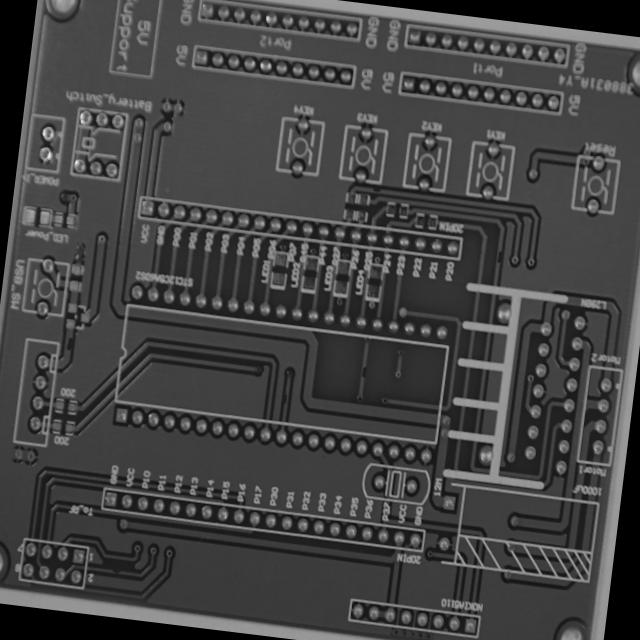mouse_bite: (356, 362, 372, 382), (62, 333, 78, 352), (367, 182, 385, 198), (278, 389, 293, 408), (493, 248, 506, 264)
